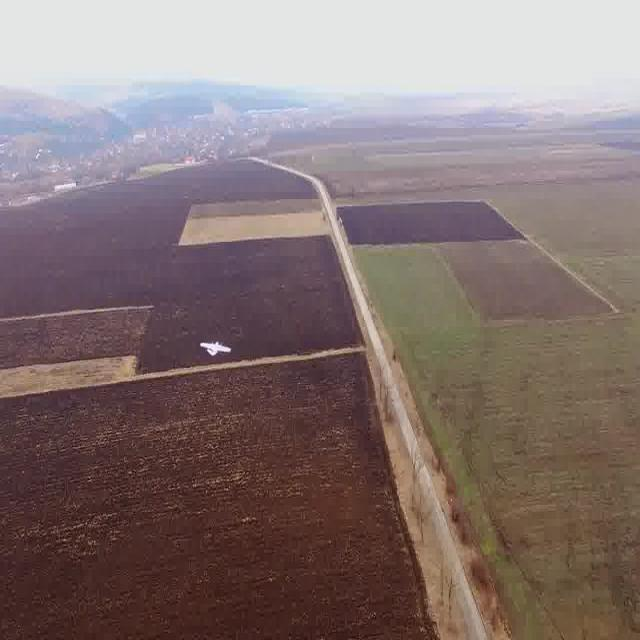iha: (198, 325, 238, 372)
